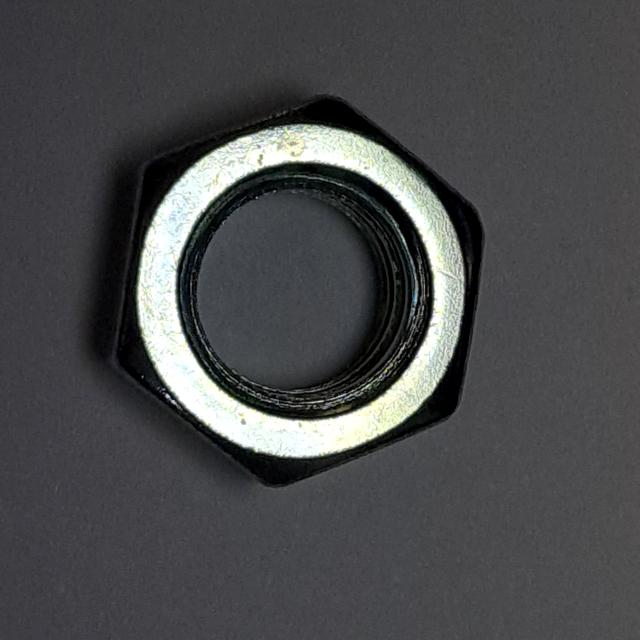Excellent: (94, 66, 502, 508)
